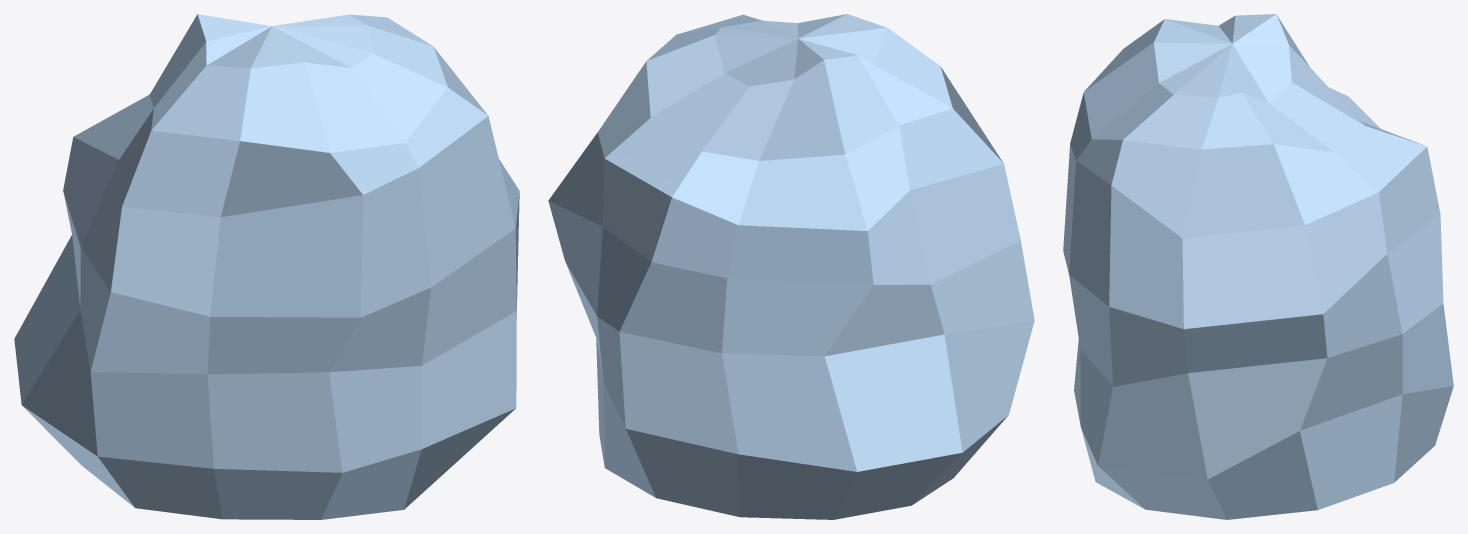
File: ore.glb
3 renders of one model, left to right at view 1: azimuth 30°, elevation 25°; view 2: azimuth 150°, elevation 25°; view 3: azimuth 270°, elevation 25°, orthographic. The views are drawn at different scales.
Visible parts, largest first — view 1: group2139200616; view 2: group2139200616; view 3: group2139200616.
Part boxes in pixels (box(x1,y1,x2,y2)): group2139200616: box(14, 14, 519, 519); group2139200616: box(548, 14, 1034, 519); group2139200616: box(1063, 14, 1453, 519).
Bounding box in the file's own units: 0.3705 × 0.364 × 0.3078.
